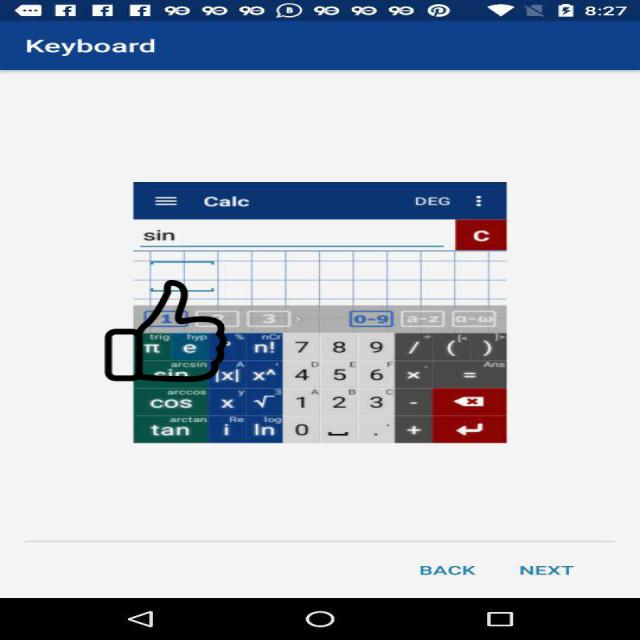privacy zuckering: (103, 280, 229, 382)
